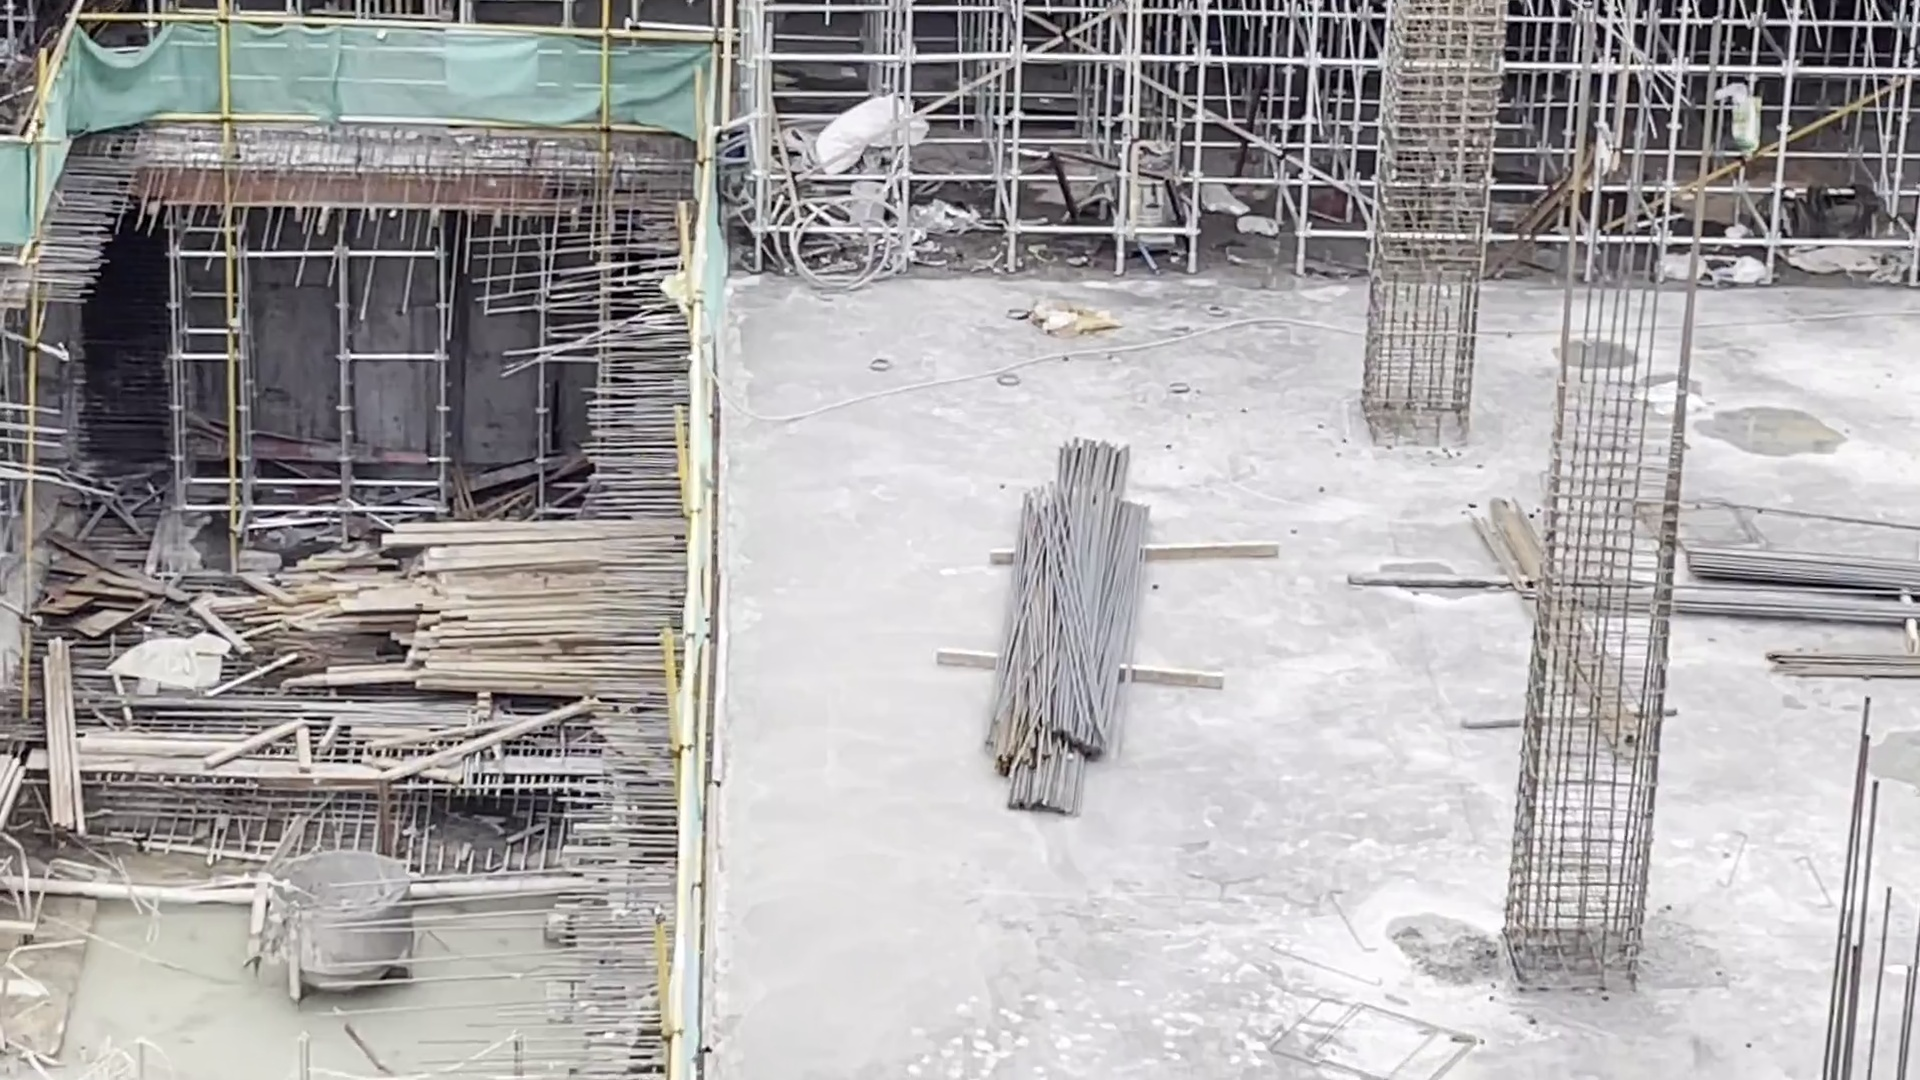rebar: (1000, 415, 1156, 833)
wood: (386, 504, 687, 694)
